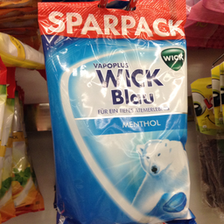candy: (40, 3, 192, 223)
